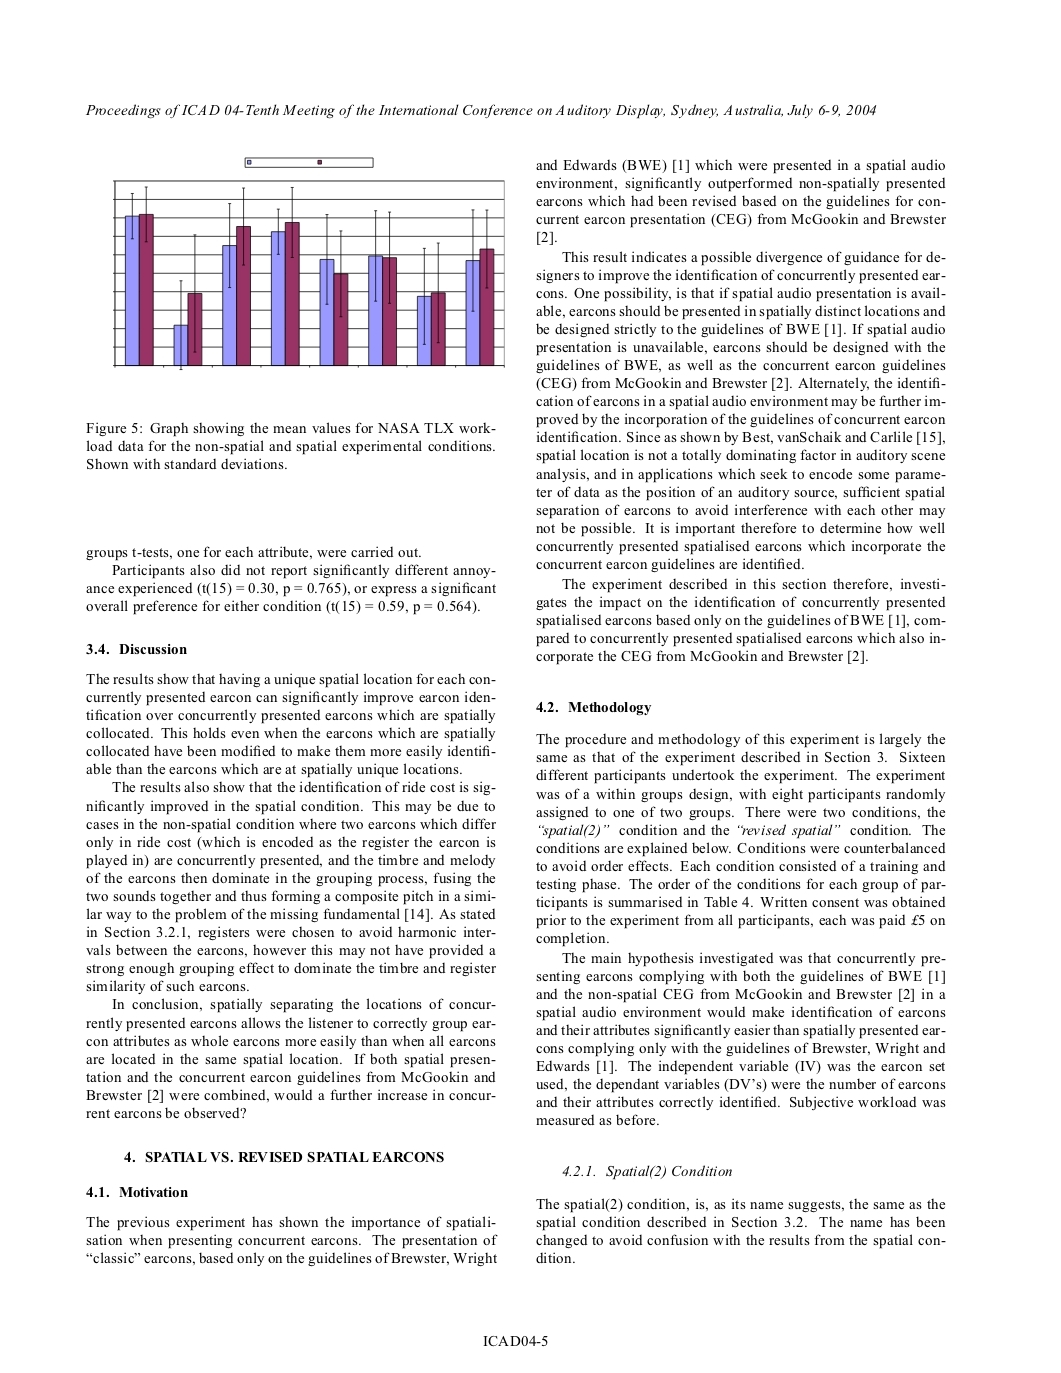figure: (113, 157, 504, 369)
